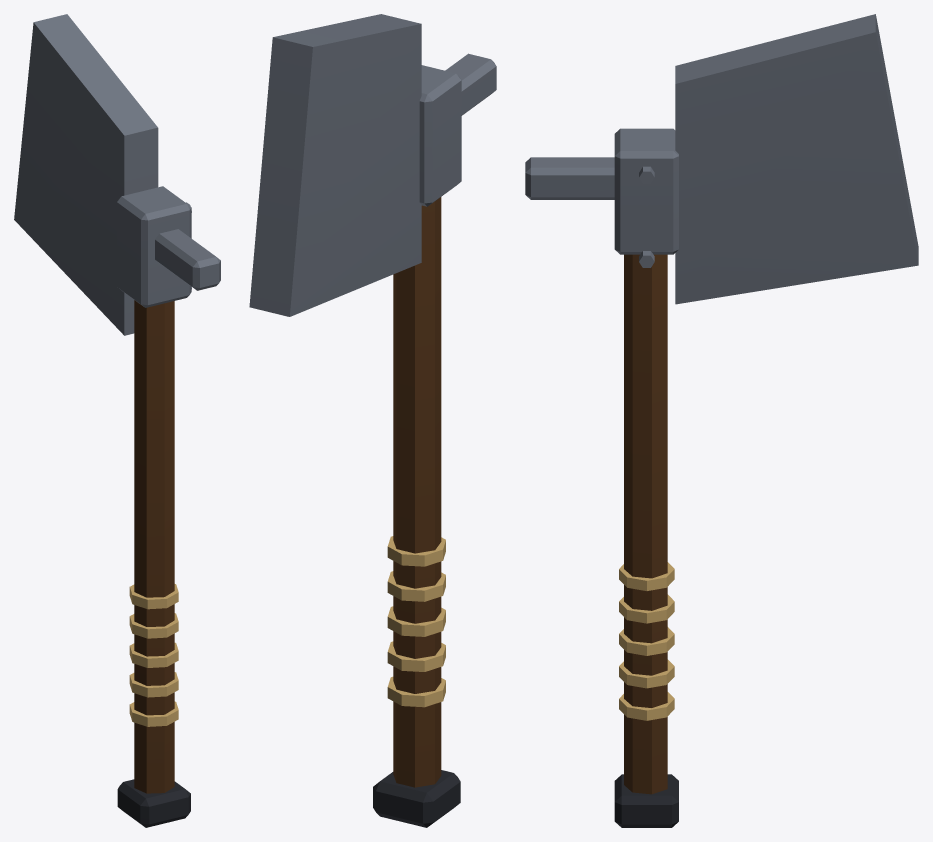
File: item_axe_old.glb
The picture shows the model from 3 angles, left to right: view 1: azimuth 30°, elevation 25°; view 2: azimuth 150°, elevation 25°; view 3: azimuth 270°, elevation 25°; orthographic projection. The views are drawn at different scales.
Visible parts, largest first — view 1: item_axe_old, item_axe_old_detail; view 2: item_axe_old, item_axe_old_detail; view 3: item_axe_old, item_axe_old_detail.
Boxes of the visible parts, box(x1,y1,x2,y2) form: item_axe_old: box(14, 14, 220, 827); item_axe_old_detail: box(129, 202, 191, 726); item_axe_old: box(249, 14, 496, 827); item_axe_old_detail: box(387, 536, 445, 707); item_axe_old: box(525, 14, 918, 827); item_axe_old_detail: box(619, 166, 674, 720).
Size of the model in its own units: 0.106 by 1.23 by 0.55.
